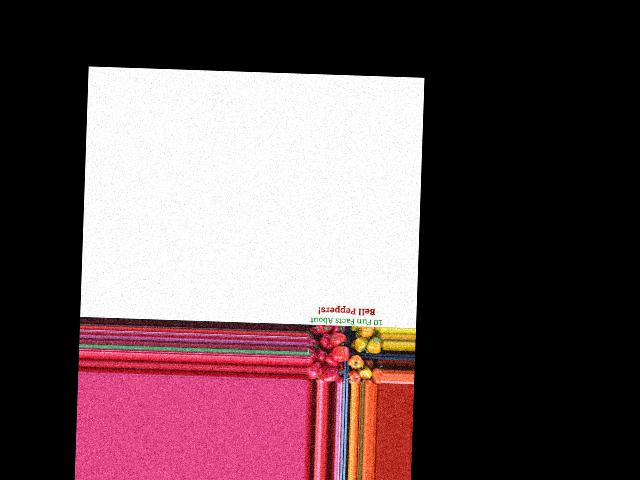bell_pepper: (314, 322, 336, 337)
